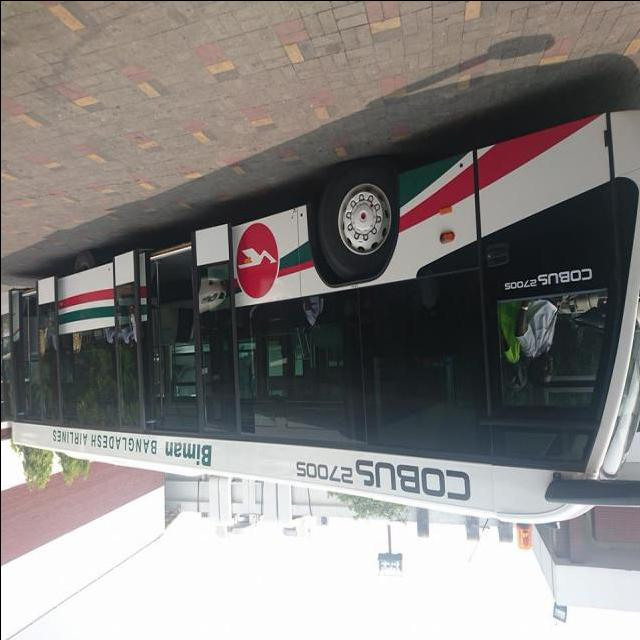bus: (8, 106, 640, 550)
